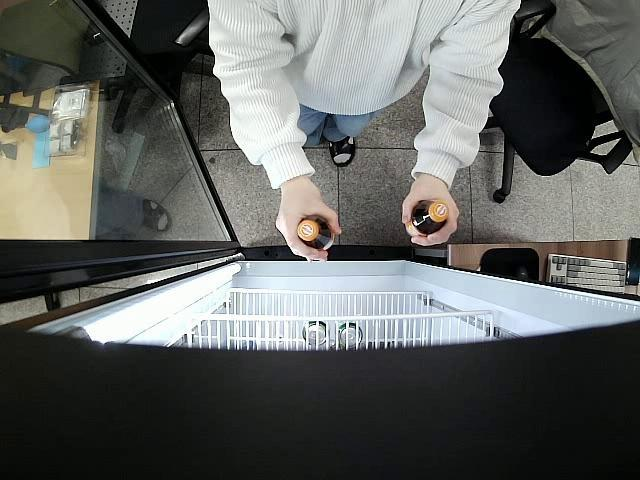17_vita500: (405, 199, 450, 238), (298, 214, 336, 252)
